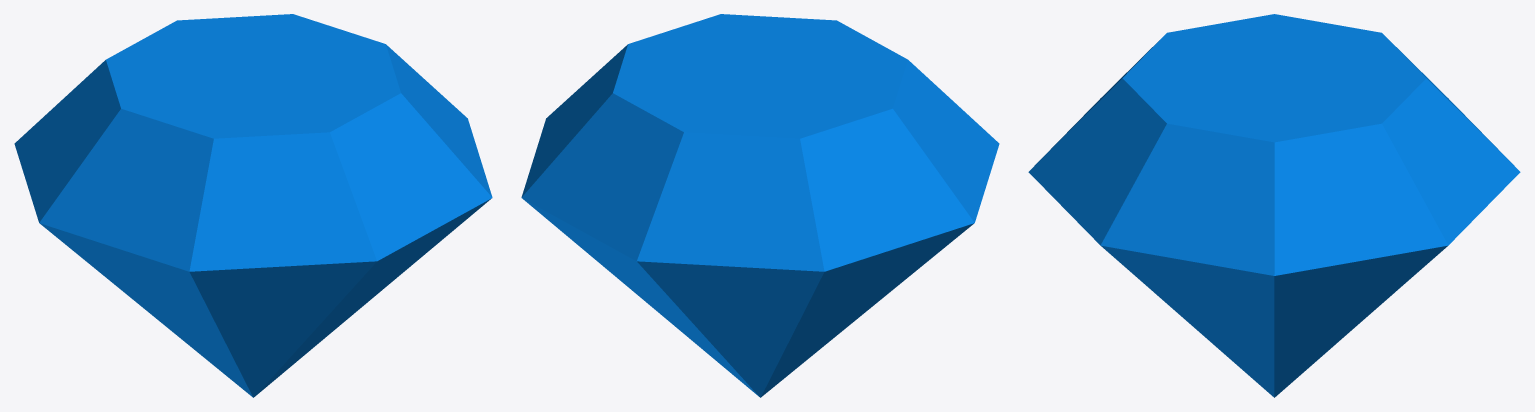
The model's file is Gem.fbx.
3 renders of one model, left to right at view 1: azimuth 30°, elevation 25°; view 2: azimuth 150°, elevation 25°; view 3: azimuth 270°, elevation 25°, orthographic.
Visible parts, largest first — view 1: Cylinder; view 2: Cylinder; view 3: Cylinder.
Boxes of the visible parts, box(x1,y1,x2,y2) form: Cylinder: box(14, 14, 492, 397); Cylinder: box(521, 14, 999, 397); Cylinder: box(1028, 14, 1520, 397).
Bounding box in the file's own units: 200 × 143 × 200.
